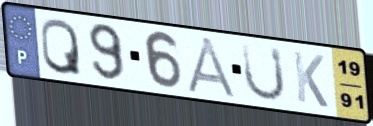6: (142, 28, 185, 92)
9: (86, 21, 127, 84)
A: (184, 35, 242, 101)
K: (290, 48, 330, 111)
Q: (39, 16, 84, 77)
U: (239, 40, 288, 103)
